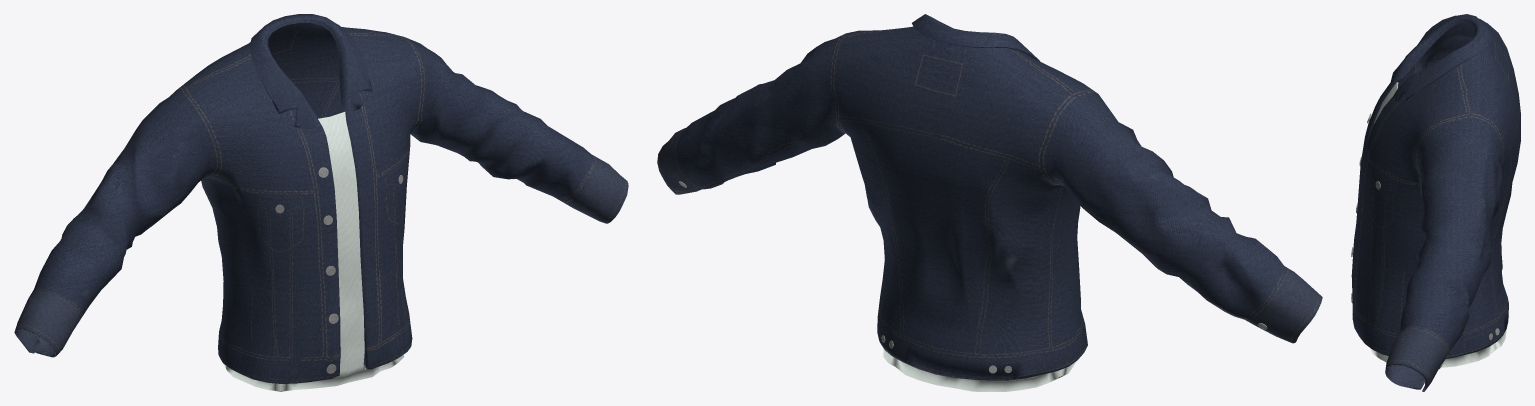
3 views of the same model, side by side, from view 1: azimuth 30°, elevation 25°; view 2: azimuth 150°, elevation 25°; view 3: azimuth 270°, elevation 25° (orthographic). The views are drawn at different scales.
Visible parts, largest first — view 1: Denim_low, button; view 2: Denim_low; view 3: Denim_low, button.
Part boxes in pixels (x1=…): Denim_low: x1=14, y1=14, x2=628, y2=391; button: x1=275, y1=167, x2=403, y2=373; Denim_low: x1=657, y1=14, x2=1322, y2=391; Denim_low: x1=1351, y1=14, x2=1520, y2=391; button: x1=1351, y1=113, x2=1499, y2=369.
Size of the model in its own units: 1.27 by 0.6425 by 0.3243.
2 materials, 2 textured.
